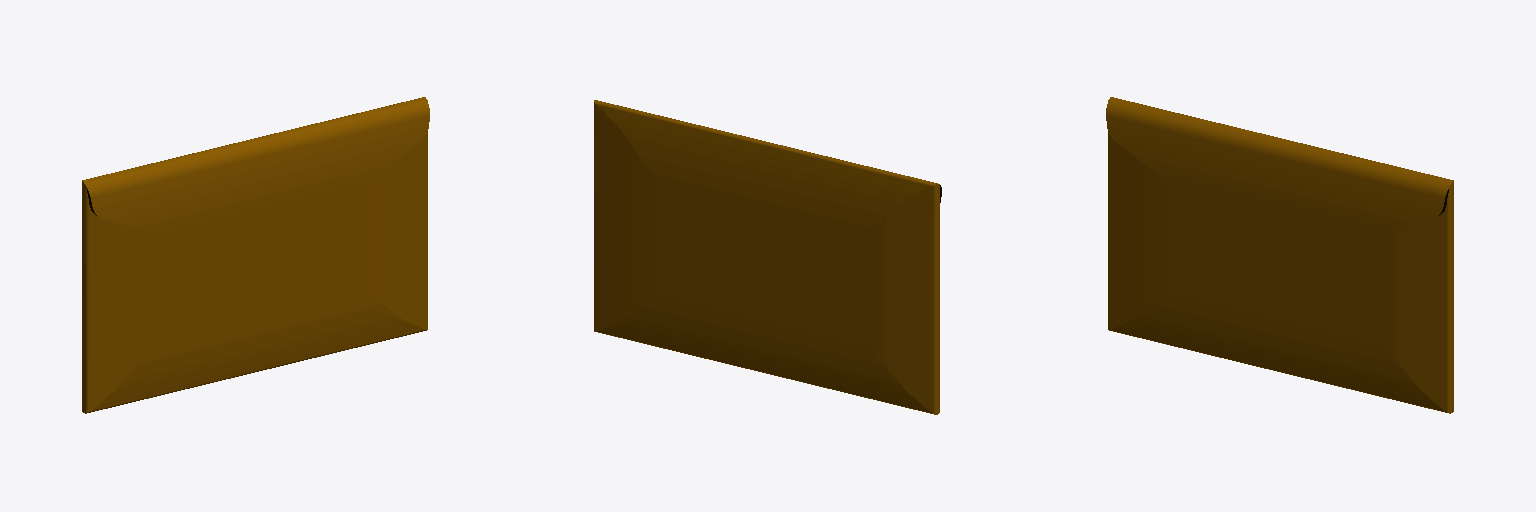
The model's file is letter.obj.
3 renders of one model, left to right at view 1: azimuth 30°, elevation 25°; view 2: azimuth 150°, elevation 25°; view 3: azimuth 330°, elevation 25°, orthographic.
Visible parts, largest first — view 1: Mail; view 2: Mail; view 3: Mail.
Part boxes in pixels (bbox=[...]): Mail: bbox=[82, 97, 429, 413]; Mail: bbox=[594, 100, 941, 414]; Mail: bbox=[1106, 97, 1453, 413].
Size of the model in its own units: 0.2837 by 0.1828 by 0.0177.